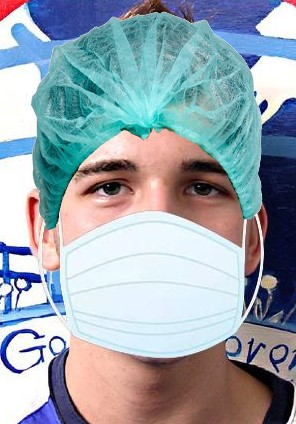with_mask_and_cap: (31, 16, 266, 362)
